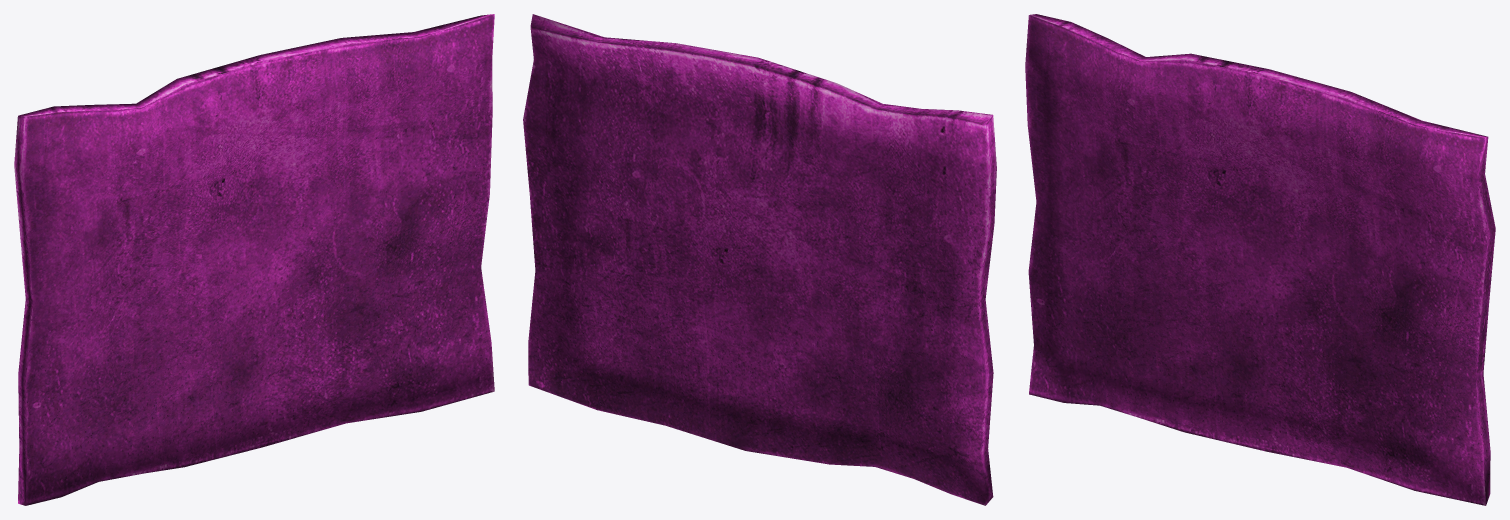
Rendered from wooden_board.dae.
The picture shows the model from 3 angles, left to right: view 1: azimuth 30°, elevation 25°; view 2: azimuth 150°, elevation 25°; view 3: azimuth 330°, elevation 25°; orthographic projection. The views are drawn at different scales.
Parts seen in each view (by area): view 1: wooden_board; view 2: wooden_board; view 3: wooden_board.
Boxes of the visible parts, x1,y1,x2,y2 form: wooden_board: (14,14,494,505); wooden_board: (523,14,996,505); wooden_board: (1025,14,1495,505).
Bounding box in the file's own units: 60.48 × 48 × 3.93.
